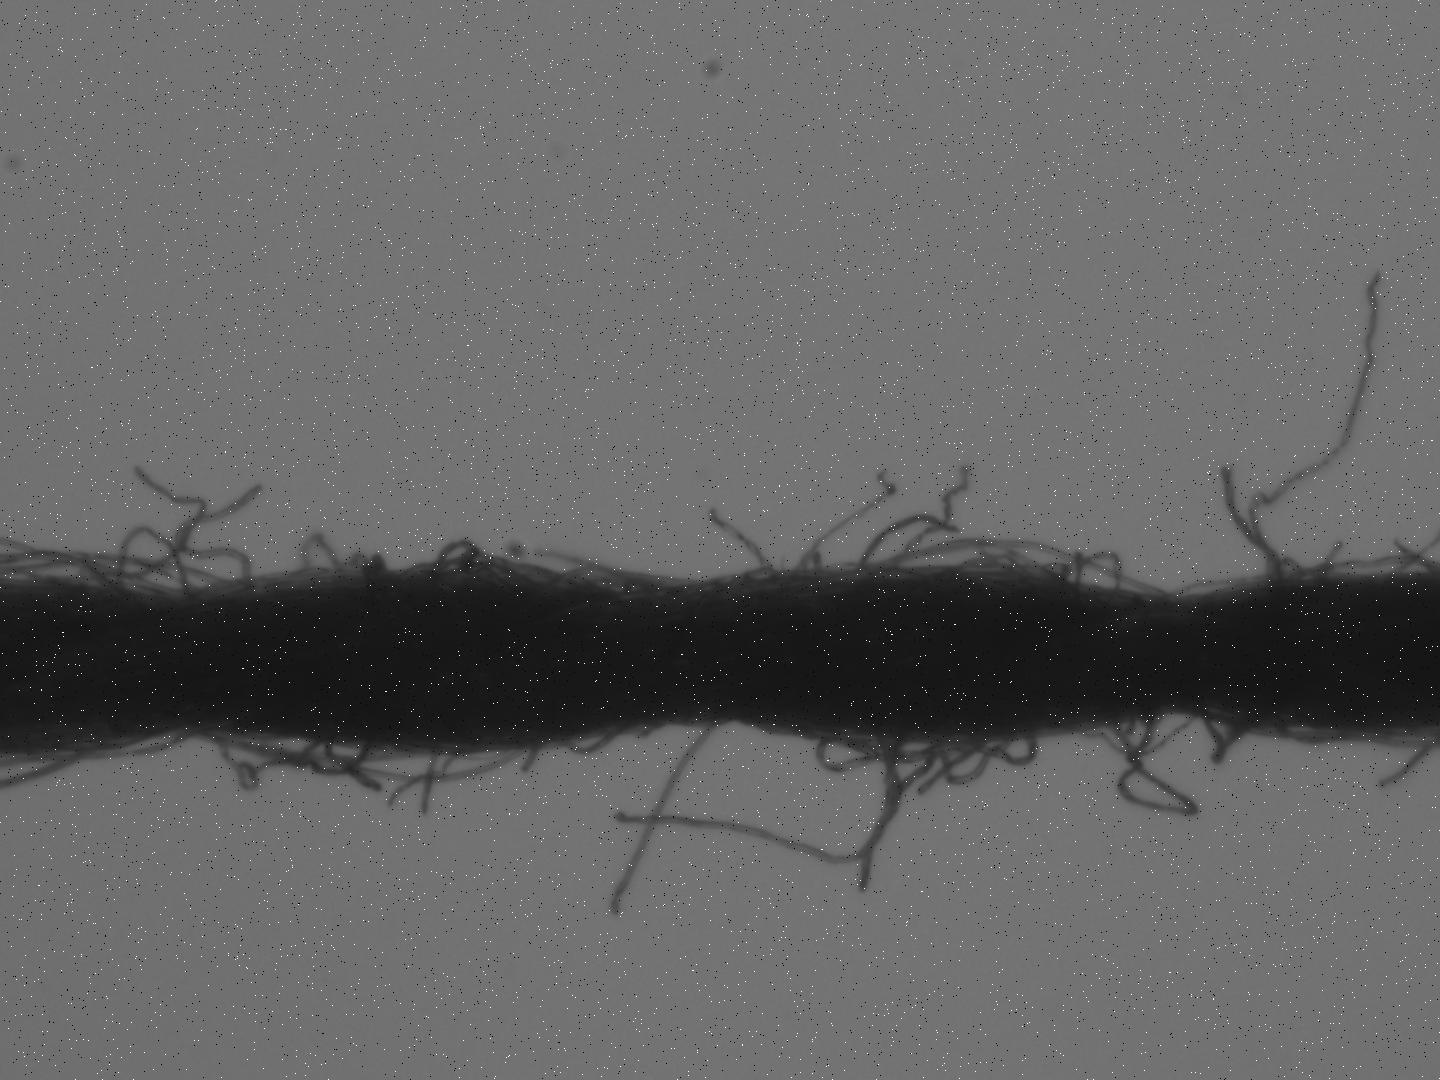loop_fiber: (219, 732, 533, 785), (844, 542, 1061, 588), (822, 733, 1042, 768), (14, 729, 210, 762), (1083, 715, 1194, 760), (124, 525, 190, 600), (435, 541, 534, 589), (938, 737, 1015, 791), (2, 564, 133, 593), (553, 565, 659, 599), (302, 732, 380, 776), (1191, 714, 1268, 757), (1057, 550, 1125, 592), (558, 723, 626, 757), (300, 539, 342, 584)
protruding_fiber: (1247, 271, 1388, 589), (608, 744, 897, 864), (609, 724, 718, 918), (795, 466, 901, 577), (1223, 464, 1286, 585), (713, 504, 783, 584), (1377, 740, 1440, 793), (416, 749, 440, 818)
